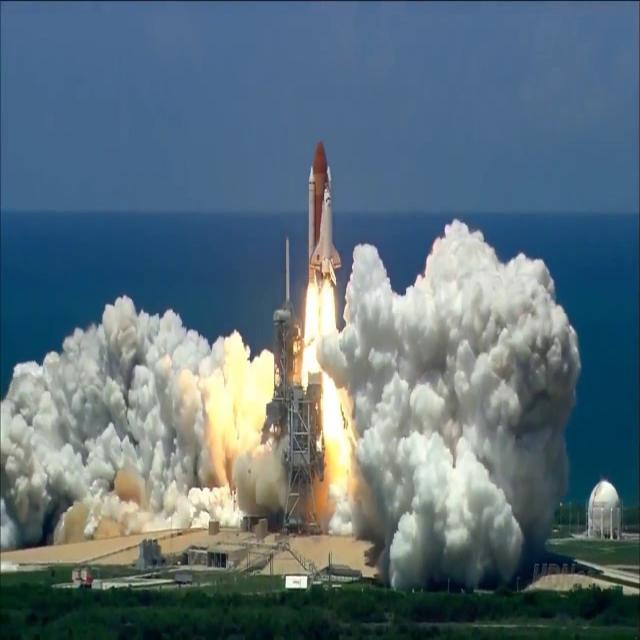medium_debris: (304, 280, 348, 499)
rocket: (311, 178, 348, 292)
